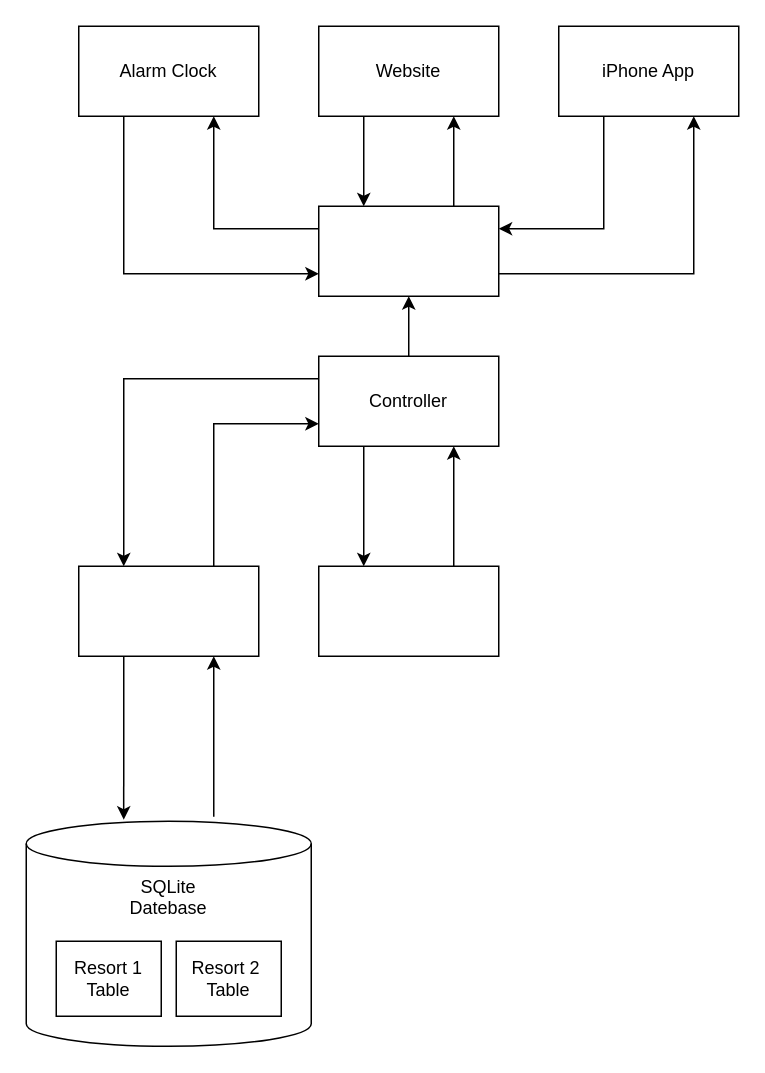
The diagram is 765 pixels wide and 1073 high, and some of its shapes have lost their labels. The shapes that lost their labels are listed below. From the top down, each one's centre as x and y in pixels, then its label:
At pixel 408 250: "API".
At pixel 168 610: "Model".
At pixel 408 610: "Scrapper".
